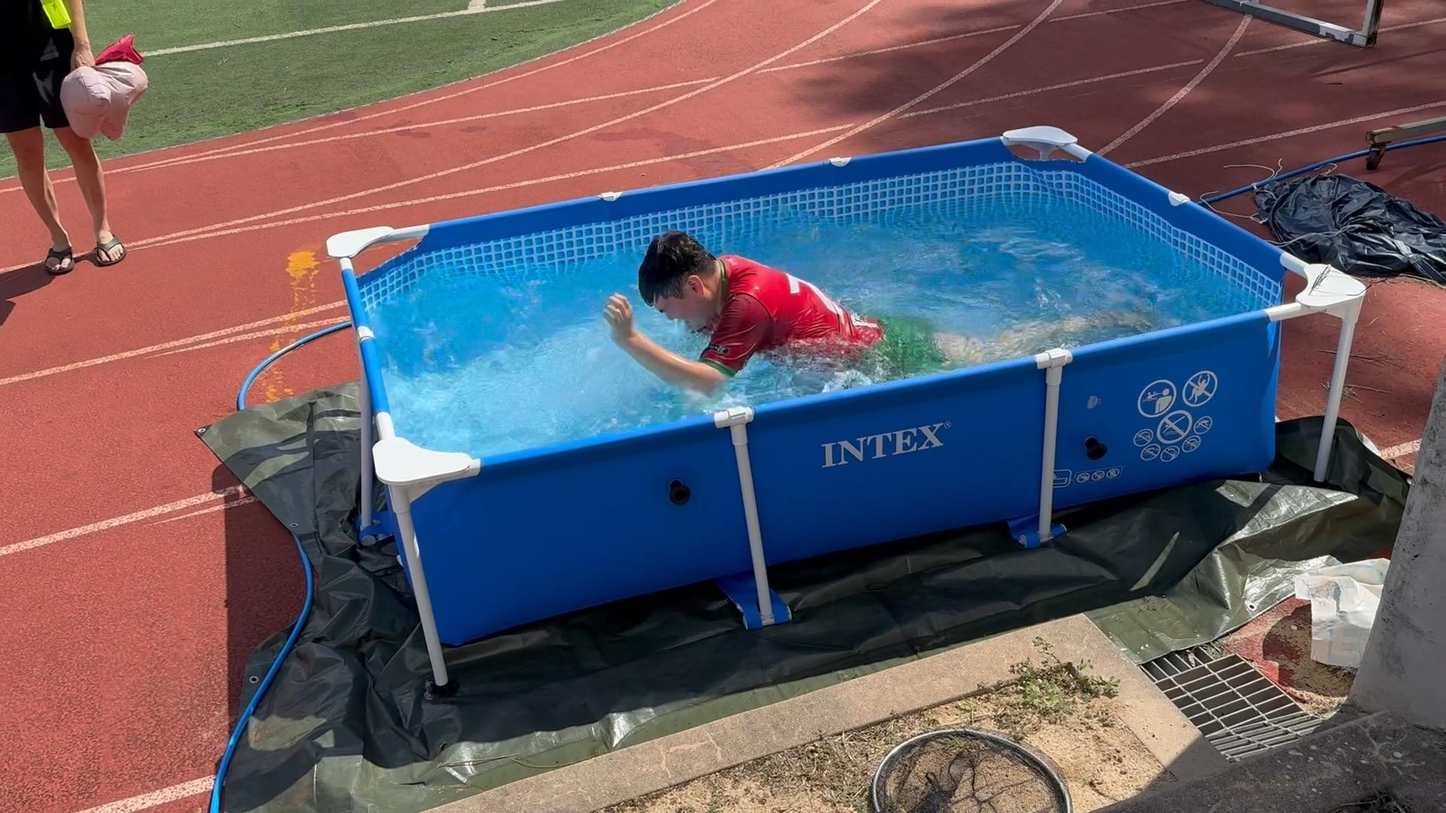Drowning: (544, 217, 1164, 391)
